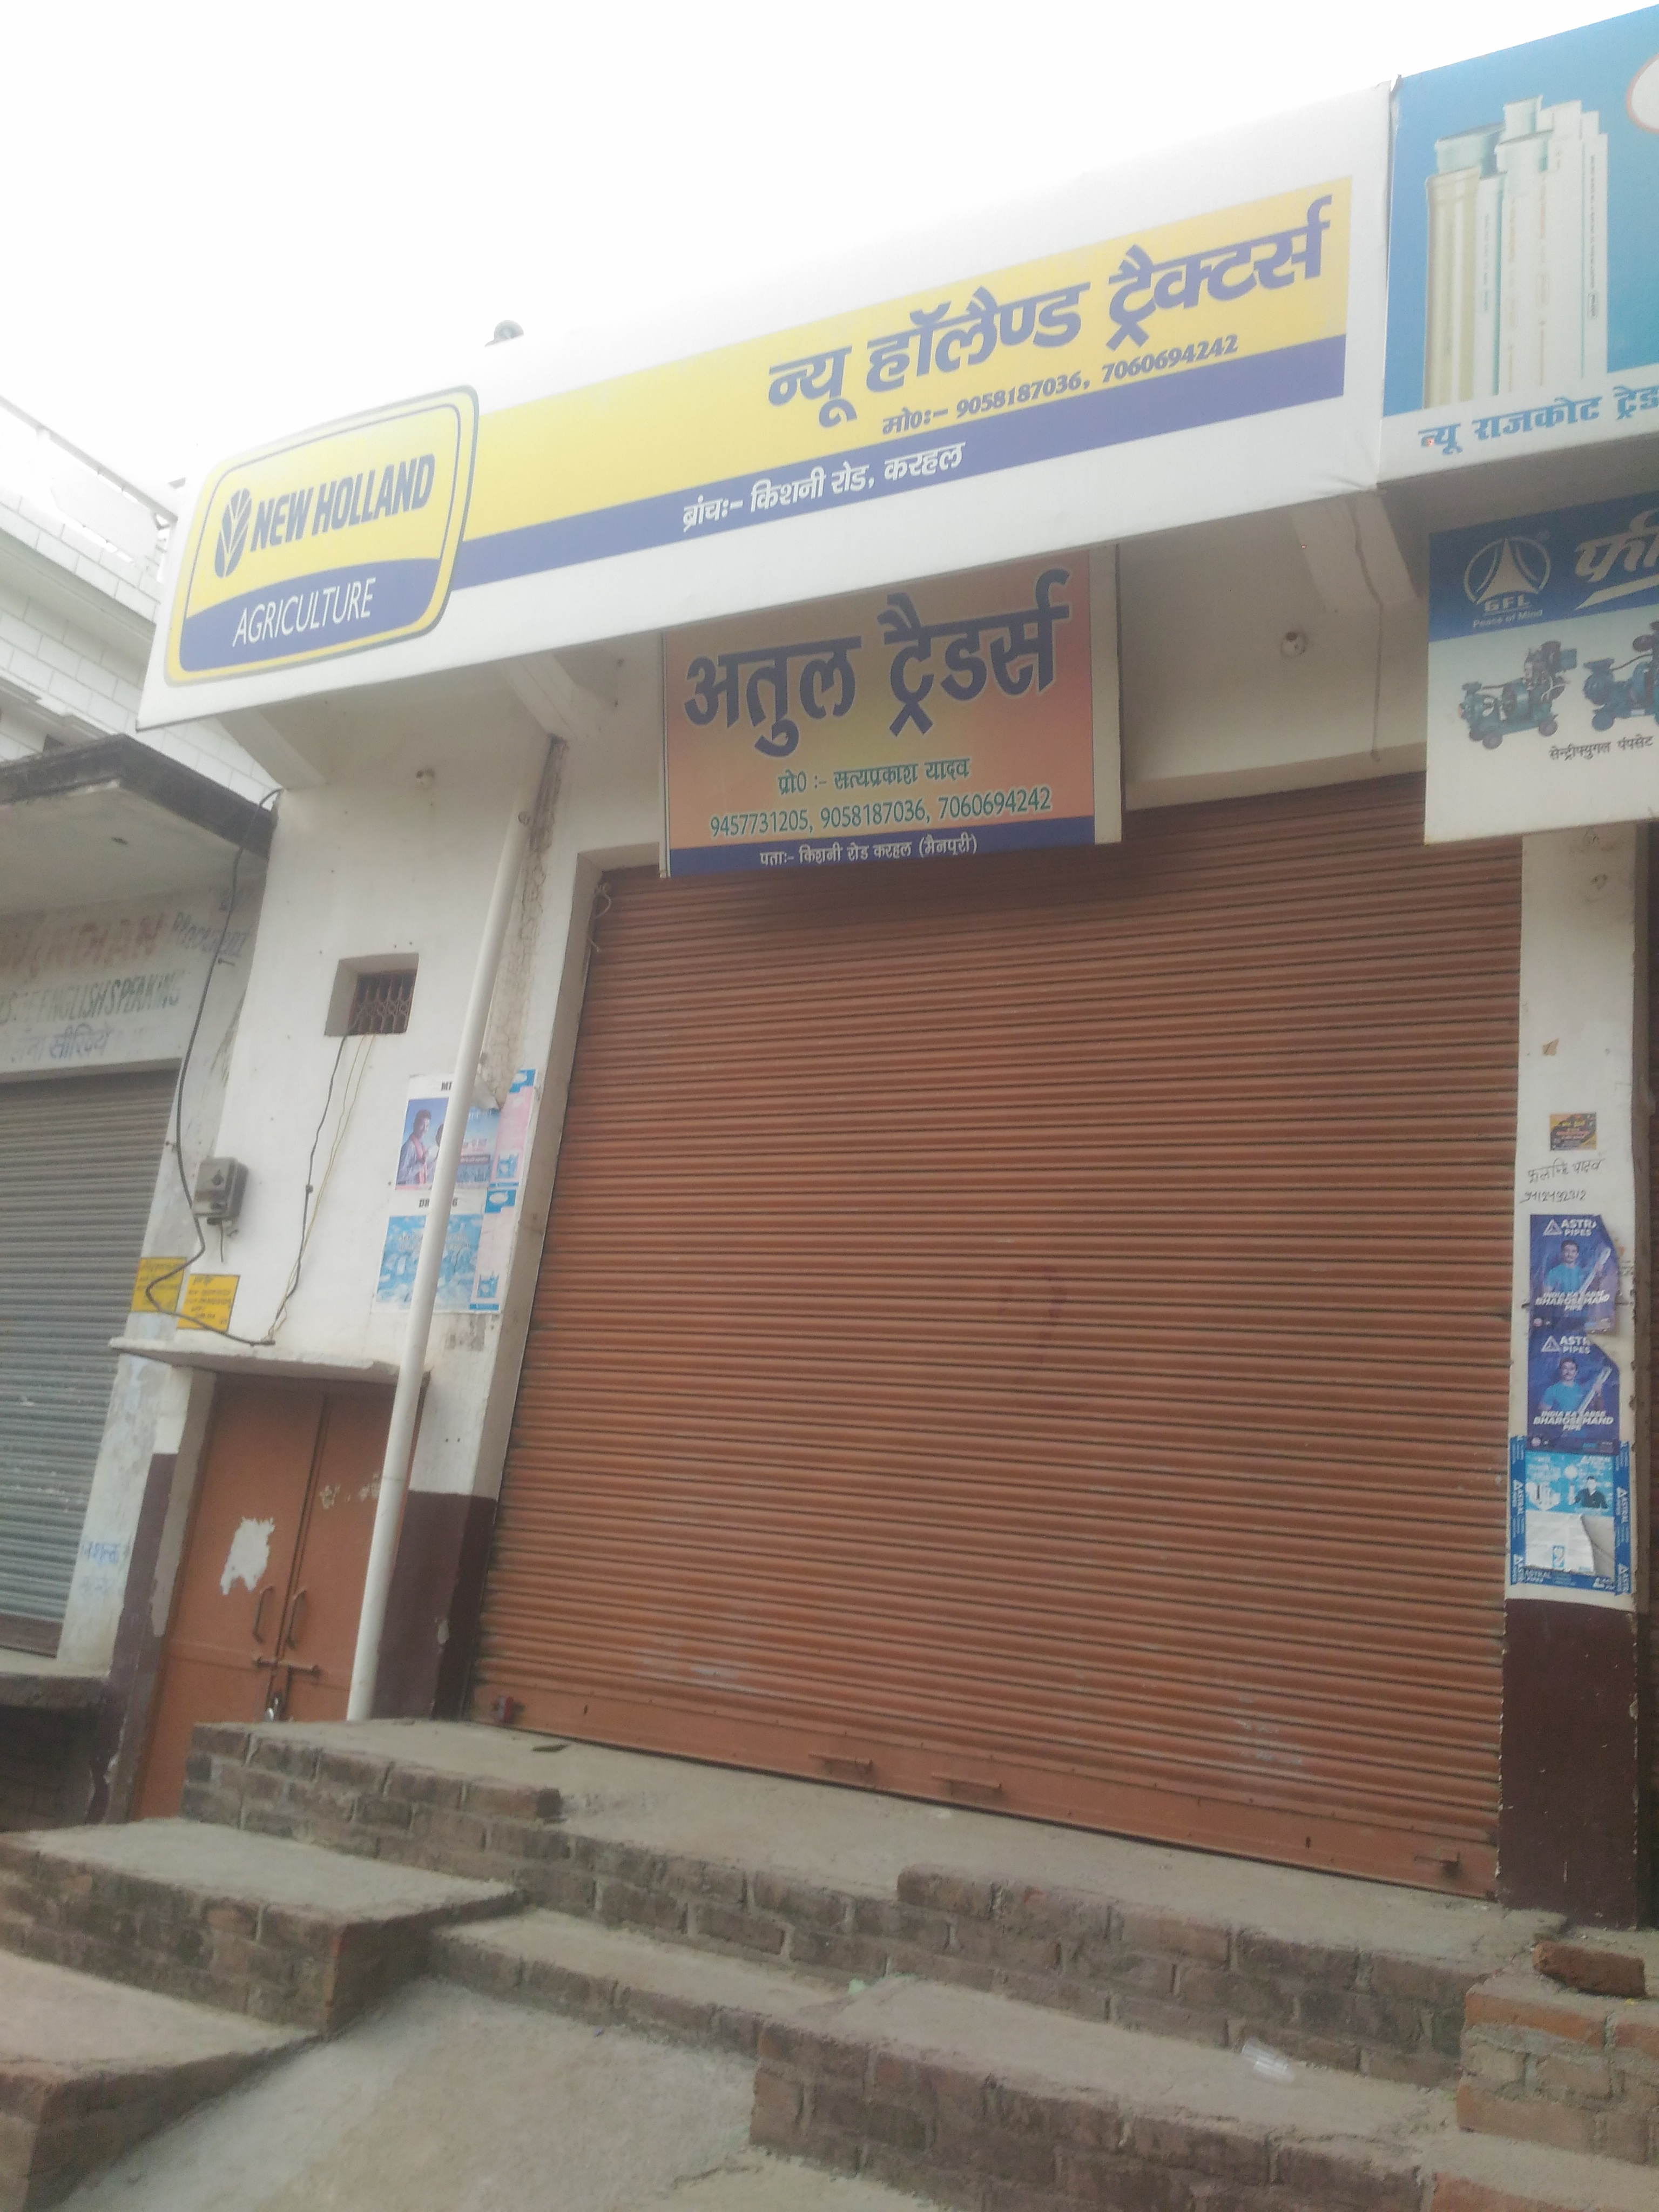text: (157, 179, 1364, 688), (641, 543, 1138, 885), (1398, 0, 1659, 467)
